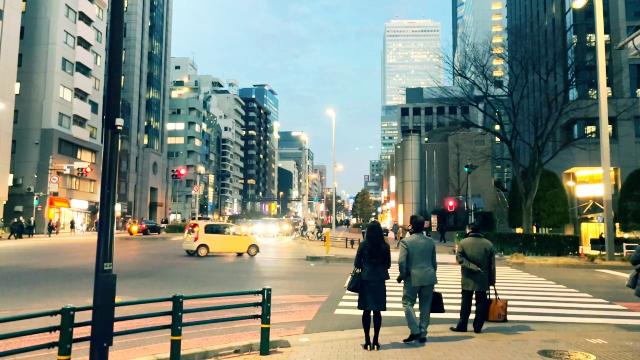berdiri: (344, 210, 394, 352), (396, 211, 440, 351), (452, 216, 504, 334)
